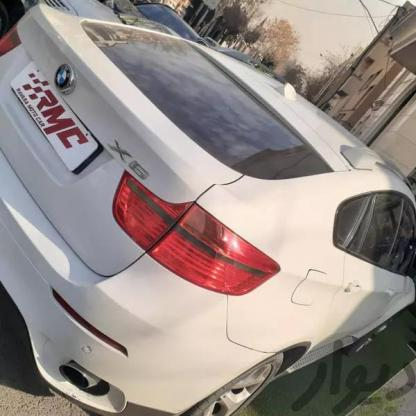Car: (0, 23, 416, 416)
